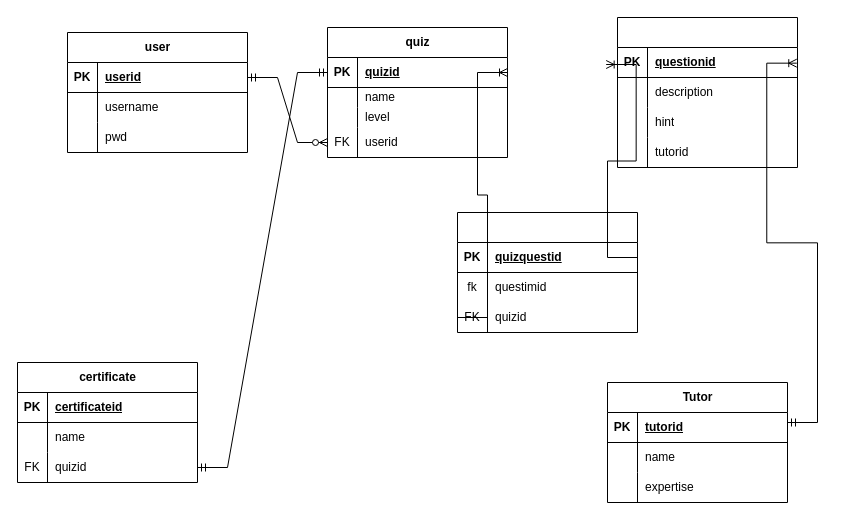
Some shapes in this 844 by 520 pixel diagram are drawn without their labels. The box of each missing label's shape, as (x1, y1, x2, y2) in pixels:
quiz_question: (456, 212, 638, 332)
qustions: (616, 16, 798, 168)
